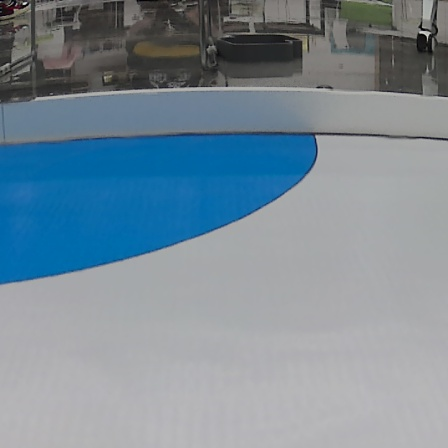blue_base: (0, 131, 320, 284)
